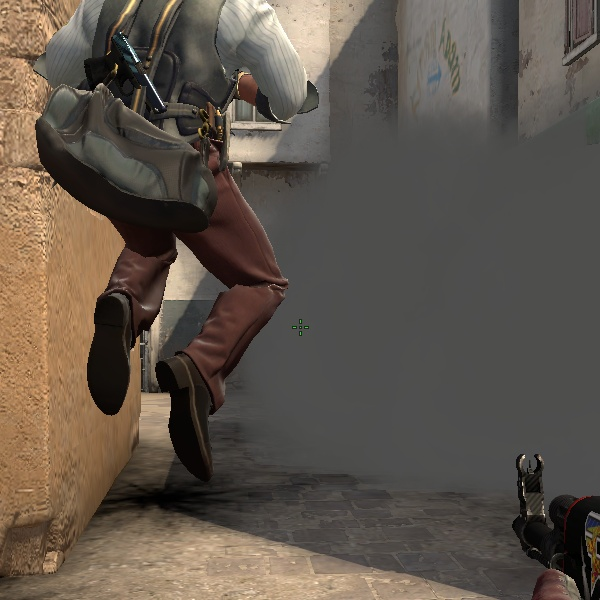ct_body: (40, 1, 306, 516)
